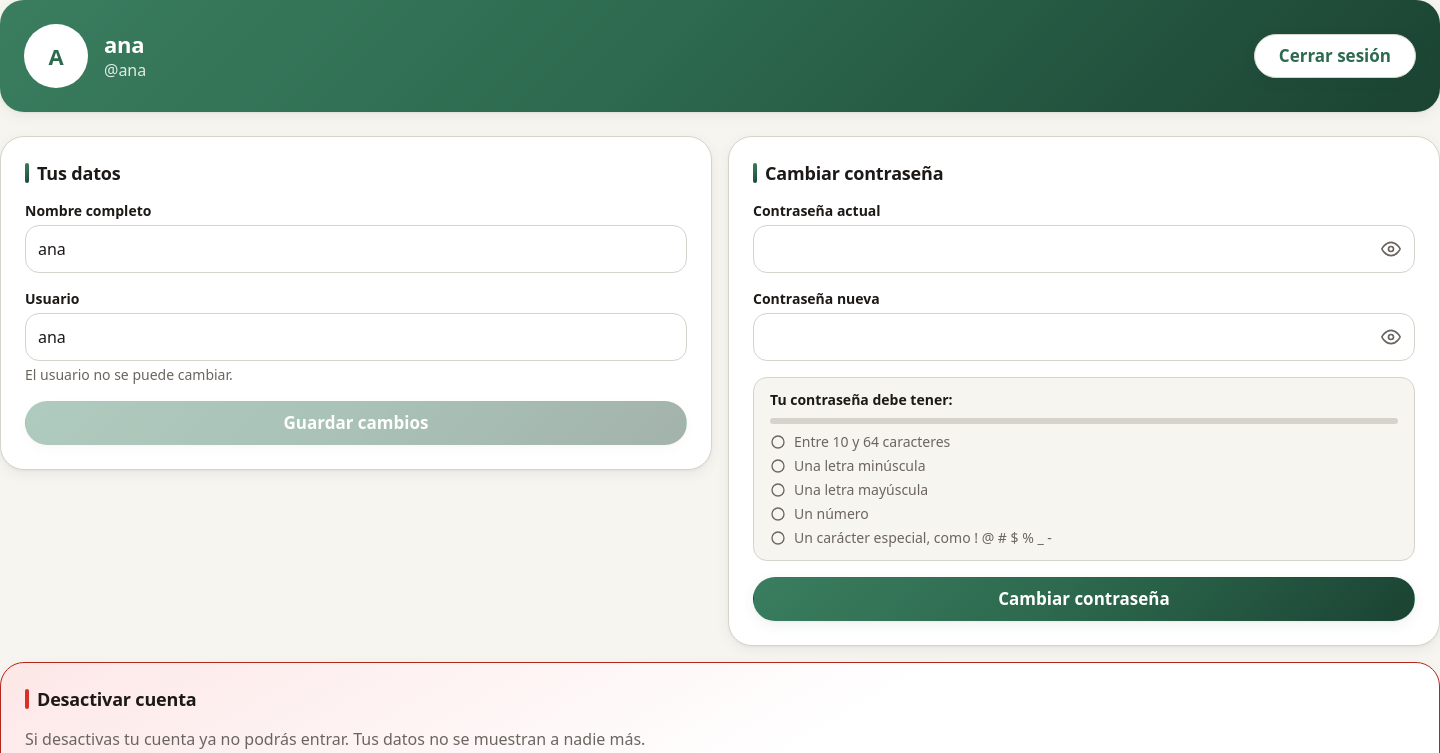
Account › does not send a new password that is too short
Type "clave-demo-123" into the password field labelled "Contraseña actual" at (1062, 249), box top-left (754, 226), bottom-right (1369, 272)
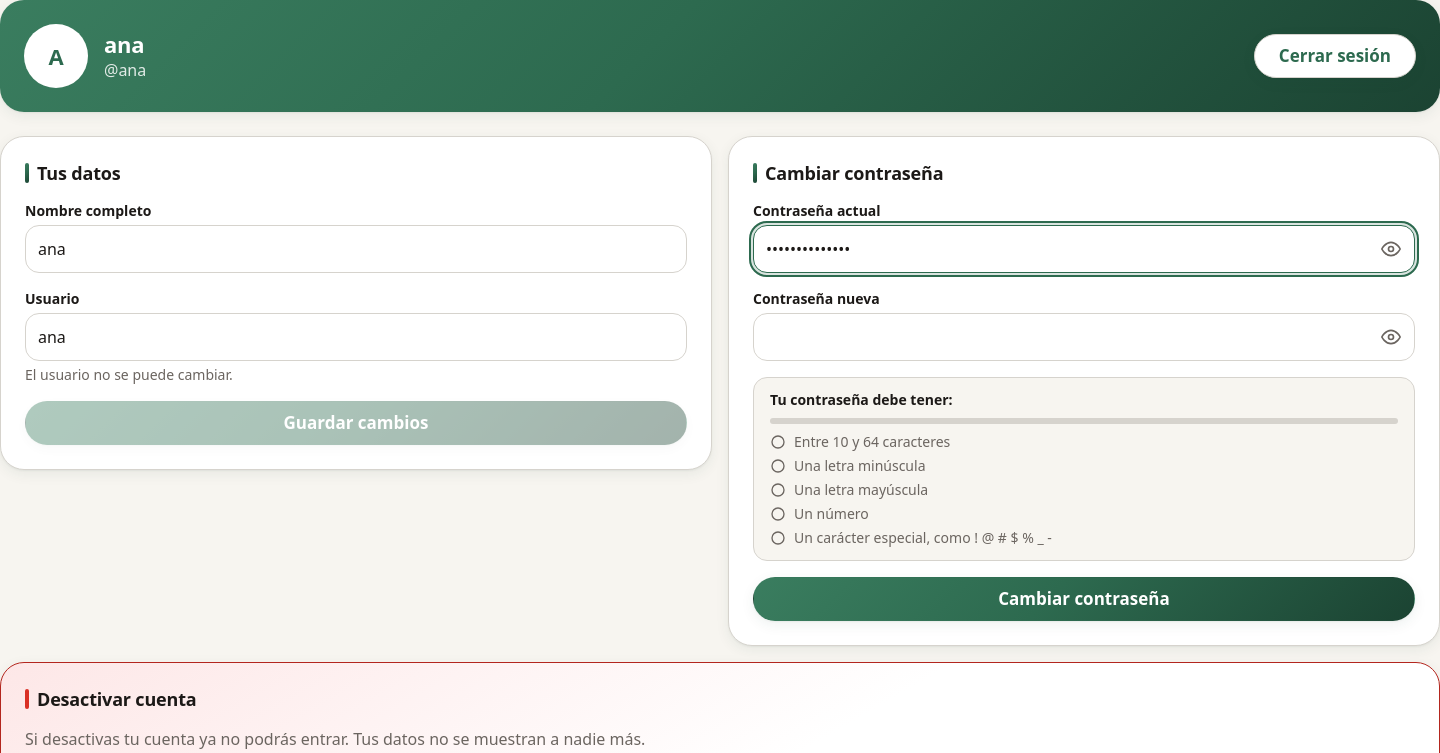
Type "corta" into the password field labelled "Contraseña nueva" at (1062, 337), box top-left (754, 314), bottom-right (1369, 360)
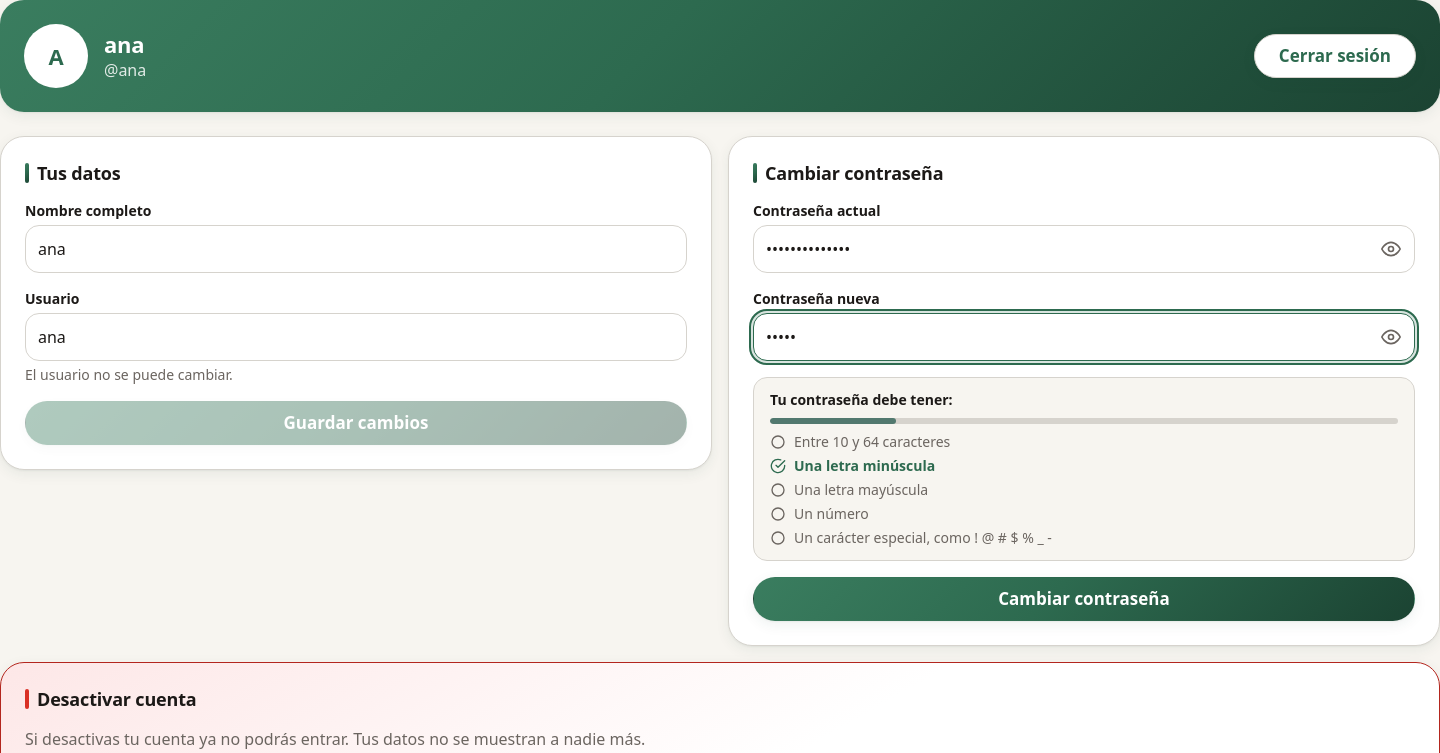
Click the button "Cambiar contraseña" at (1084, 599), box top-left (753, 577), bottom-right (1415, 621)
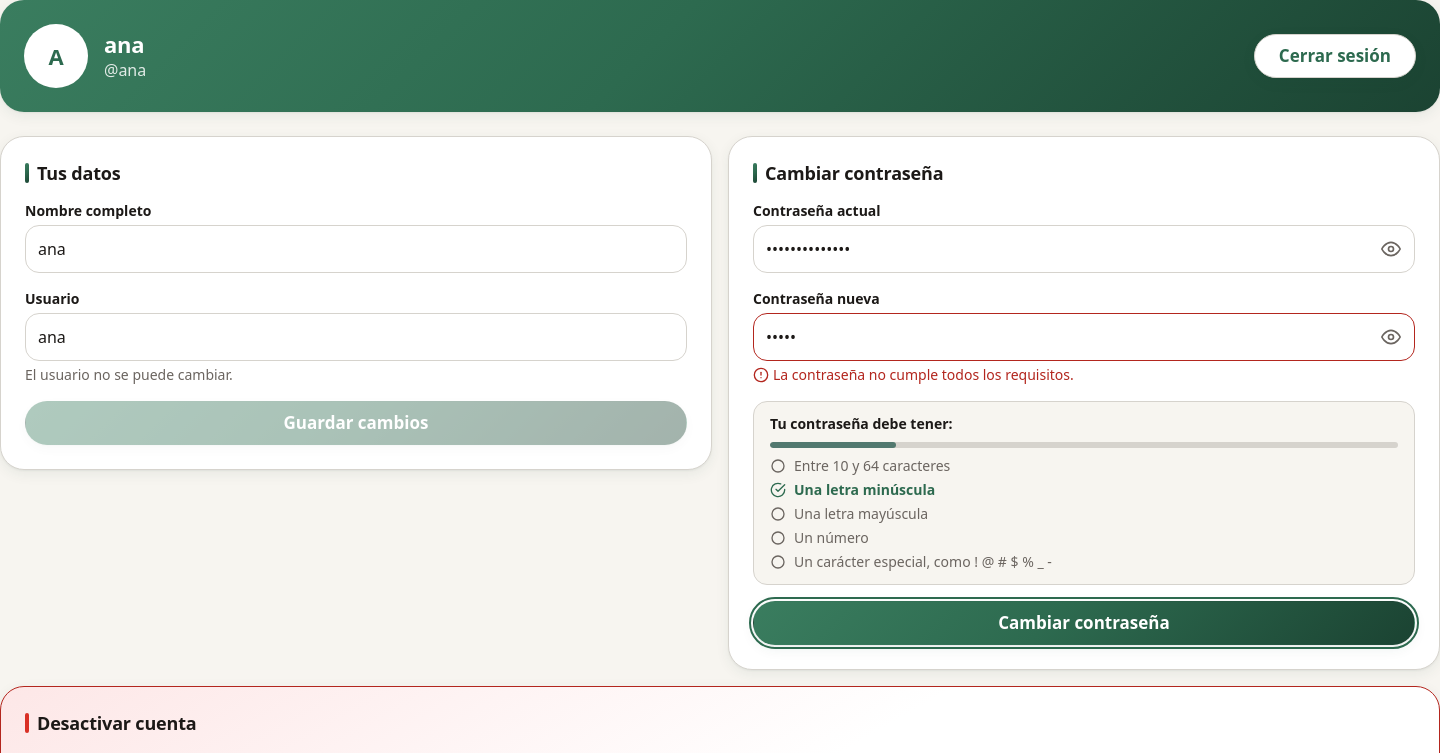
Result: the text "La contraseña no cumple todos los requisitos." is shown at top-left (753, 365), bottom-right (1074, 384)
